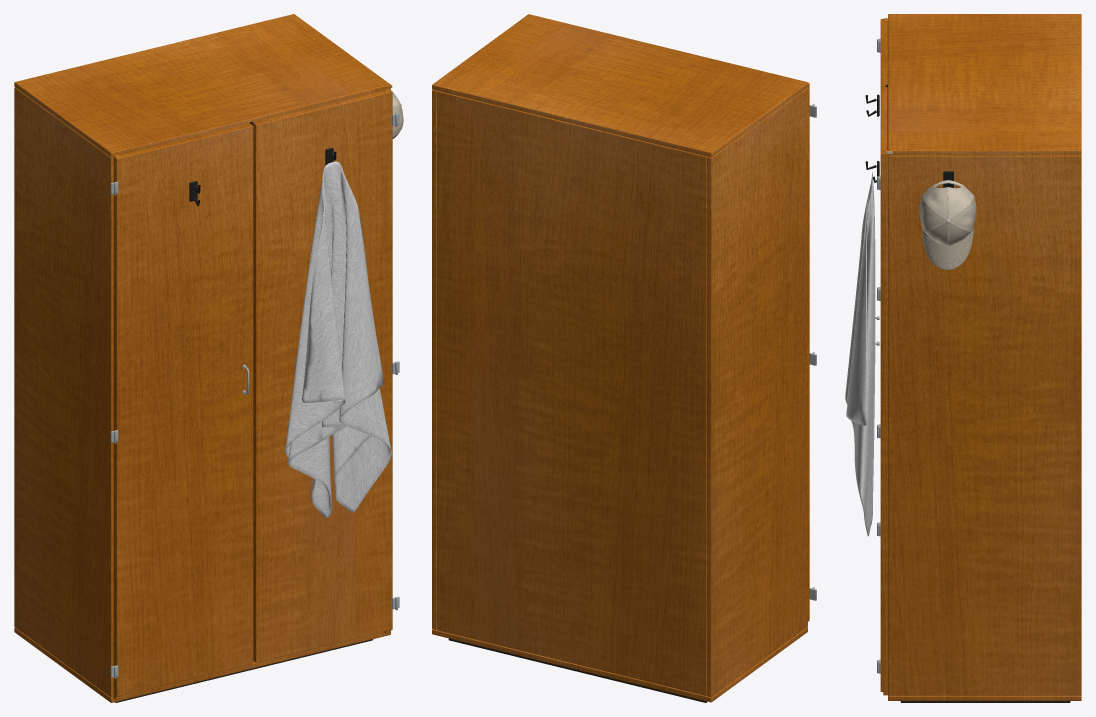
The model's file is wardrobe-web.glb.
3 renders of one model, left to right at view 1: azimuth 30°, elevation 25°; view 2: azimuth 150°, elevation 25°; view 3: azimuth 270°, elevation 25°, orthographic.
Parts seen in each view (by area): view 1: Wardrobe door, Left full wardrobe side, Wardrobe door.001, Wardrobe top, Towel, Wardrobe bottom; view 2: Complete wardrobe back, Left full wardrobe side, Wardrobe top, Right full wardrobe side, Wardrobe bottom, Wardrobe door, Recessed base plinth; view 3: Right full wardrobe side, Wardrobe top, Towel, Wardrobe door.001, Plane.003, Plane.002, Wardrobe bottom, Thin front edge band.001, Wardrobe door.
Boxes of the visible parts, left/top/right/bottom form: Wardrobe door: left=113, top=123, right=253, bottom=696; Left full wardrobe side: left=14, top=87, right=113, bottom=697; Wardrobe door.001: left=253, top=90, right=392, bottom=662; Wardrobe top: left=14, top=14, right=390, bottom=157; Towel: left=285, top=161, right=391, bottom=518; Wardrobe bottom: left=14, top=628, right=390, bottom=702; Complete wardrobe back: left=437, top=91, right=706, bottom=695; Left full wardrobe side: left=707, top=87, right=807, bottom=697; Wardrobe top: left=432, top=14, right=807, bottom=157; Right full wardrobe side: left=432, top=89, right=436, bottom=629; Wardrobe bottom: left=432, top=627, right=807, bottom=702; Wardrobe door: left=808, top=82, right=809, bottom=621; Recessed base plinth: left=448, top=638, right=707, bottom=702; Right full wardrobe side: left=888, top=155, right=1081, bottom=695; Wardrobe top: left=888, top=14, right=1081, bottom=155; Towel: left=845, top=172, right=875, bottom=536; Wardrobe door.001: left=880, top=87, right=887, bottom=691; Plane.003: left=919, top=184, right=976, bottom=246; Plane.002: left=922, top=228, right=973, bottom=269; Wardrobe bottom: left=888, top=695, right=1081, bottom=700; Thin front edge band.001: left=883, top=150, right=887, bottom=695; Wardrobe door: left=880, top=19, right=887, bottom=86.
Size of the model in its own units: 1.17 by 1.92 by 0.7382.
8 materials, 2 textured.
